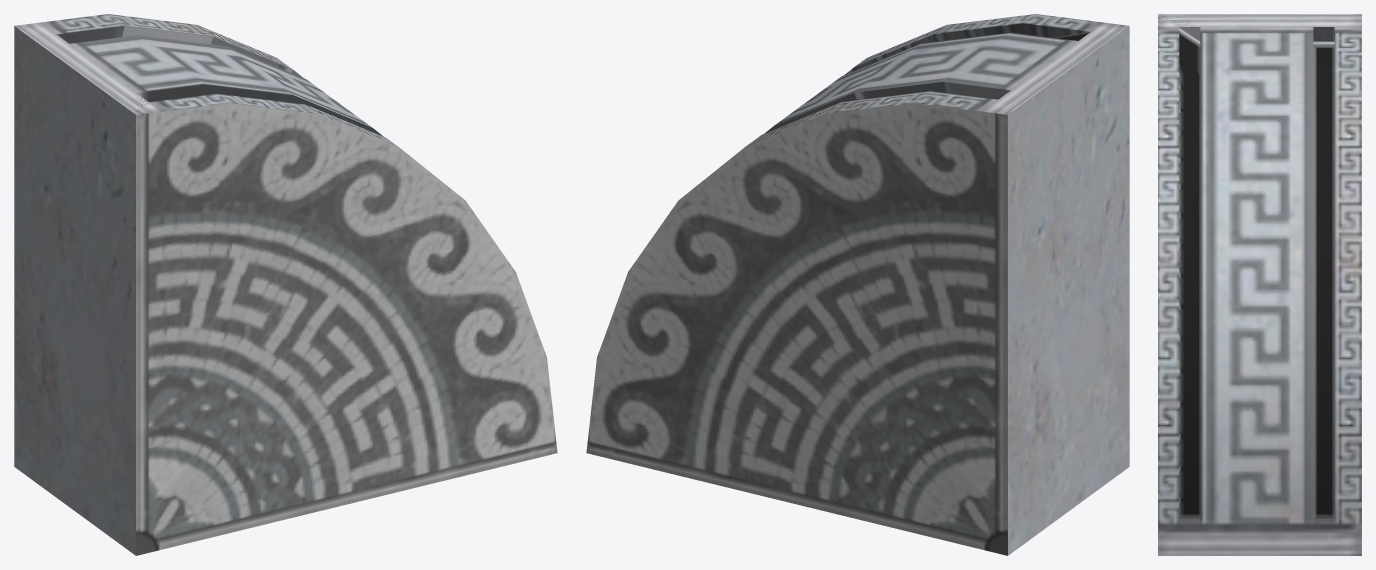
3 renders of one model, left to right at view 1: azimuth 30°, elevation 25°; view 2: azimuth 150°, elevation 25°; view 3: azimuth 270°, elevation 25°, orthographic. The views are drawn at different scales.
Parts seen in each view (by area): view 1: Curve2_Set3; view 2: Curve2_Set3; view 3: Curve2_Set3.
Boxes of the visible parts, x1,y1,x2,y2 form: Curve2_Set3: (14,14,557,555); Curve2_Set3: (586,14,1129,555); Curve2_Set3: (1158,14,1361,555).
Size of the model in its own units: 2 by 2 by 1.
